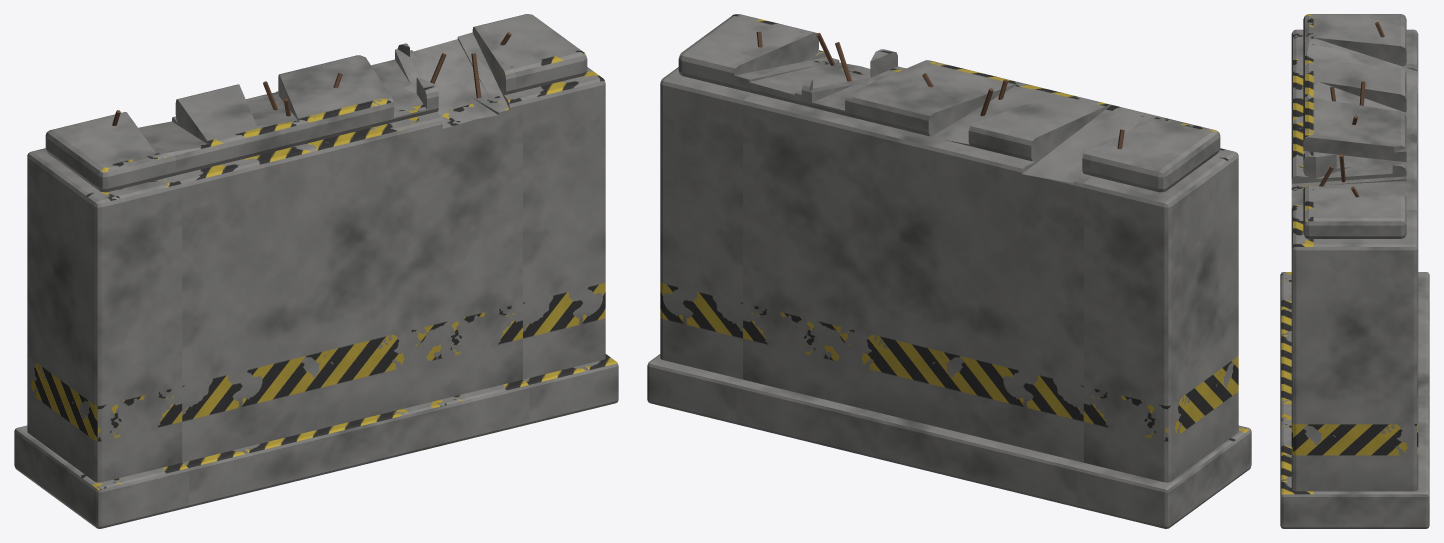
File: cover-wall.glb
3 views of the same model, side by side, from view 1: azimuth 30°, elevation 25°; view 2: azimuth 150°, elevation 25°; view 3: azimuth 270°, elevation 25° (orthographic). The views are drawn at different scales.
Visible parts, largest first — view 1: PropCoverWall; view 2: PropCoverWall; view 3: PropCoverWall.
Part boxes in pixels (x1,y1,x2,y2): PropCoverWall: (14,14,618,528); PropCoverWall: (647,14,1251,528); PropCoverWall: (1280,14,1429,528).
Size of the model in its own units: 4.6 by 3.05 by 1.3.
Materials: 2 (1 with a texture image).
